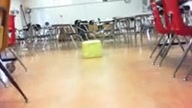cube: (81, 40, 101, 59)
